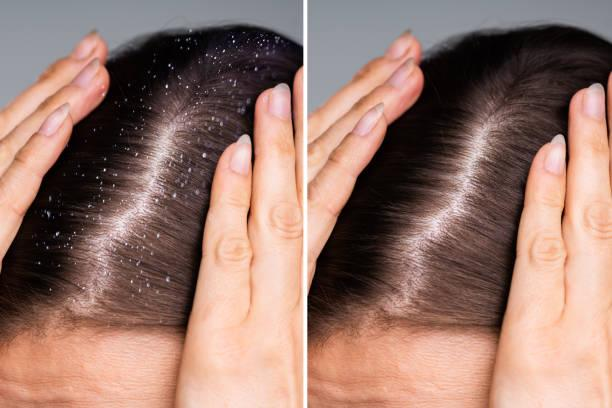dandruff: (91, 119, 152, 159), (43, 192, 60, 212), (200, 148, 216, 164), (161, 58, 182, 69), (229, 39, 241, 45)
